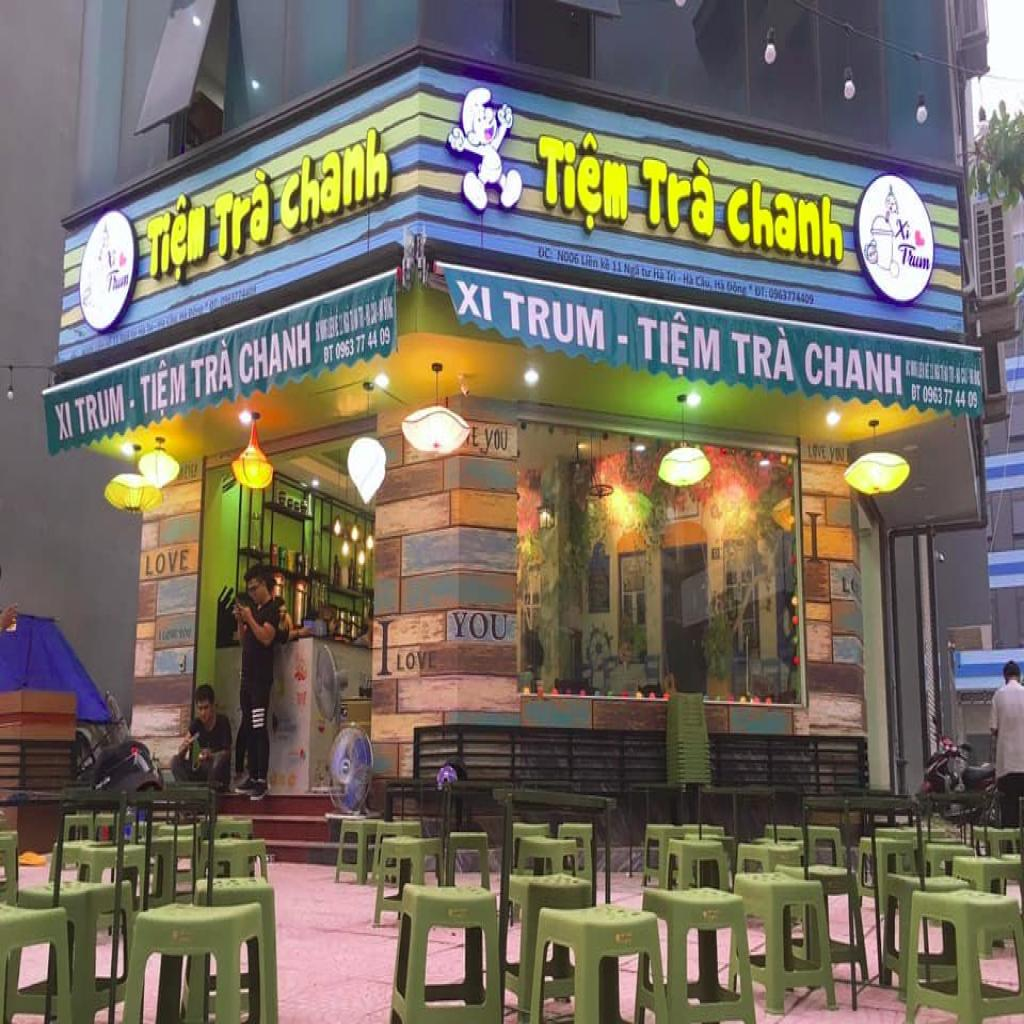text: (277, 122, 395, 240), (532, 123, 632, 243), (722, 174, 849, 268), (636, 146, 718, 252), (501, 286, 609, 358), (802, 334, 904, 404), (145, 184, 210, 291), (633, 306, 722, 382), (213, 164, 273, 266), (238, 318, 312, 390), (727, 318, 797, 392), (134, 355, 187, 426), (70, 381, 127, 440), (191, 334, 236, 405), (446, 611, 511, 650), (920, 382, 982, 418), (452, 278, 494, 330), (335, 328, 392, 366), (141, 547, 193, 584), (801, 504, 827, 571), (373, 618, 397, 682), (50, 398, 77, 448), (770, 285, 817, 312), (896, 242, 933, 276), (478, 426, 511, 459), (397, 648, 437, 675), (103, 266, 130, 296), (803, 438, 829, 464), (894, 208, 912, 242), (726, 278, 750, 302), (532, 244, 557, 266), (556, 246, 580, 266), (624, 259, 642, 285), (694, 272, 714, 294), (321, 342, 336, 370), (830, 445, 849, 467), (752, 283, 770, 304), (580, 252, 600, 270), (906, 381, 922, 403), (666, 266, 680, 291), (652, 264, 666, 288), (640, 262, 653, 285), (469, 424, 480, 451), (682, 269, 696, 288), (715, 274, 726, 296), (598, 256, 612, 272), (611, 259, 623, 275)
